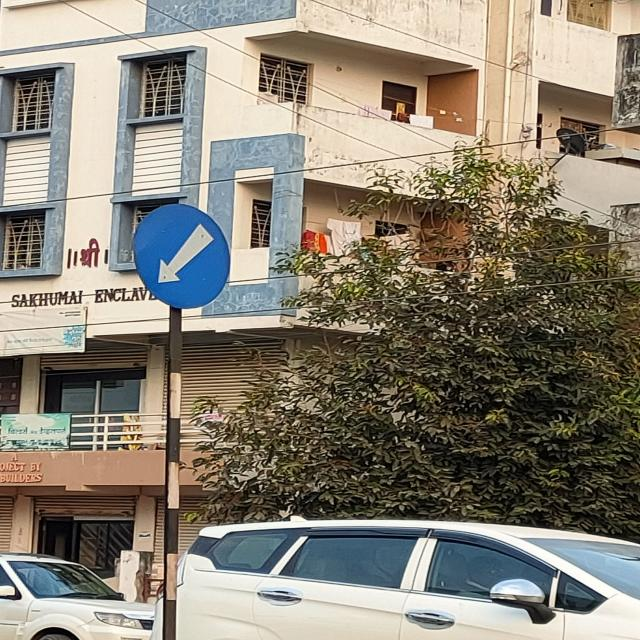COMPULSARY_KEEP_LEFT: (128, 200, 238, 318)
